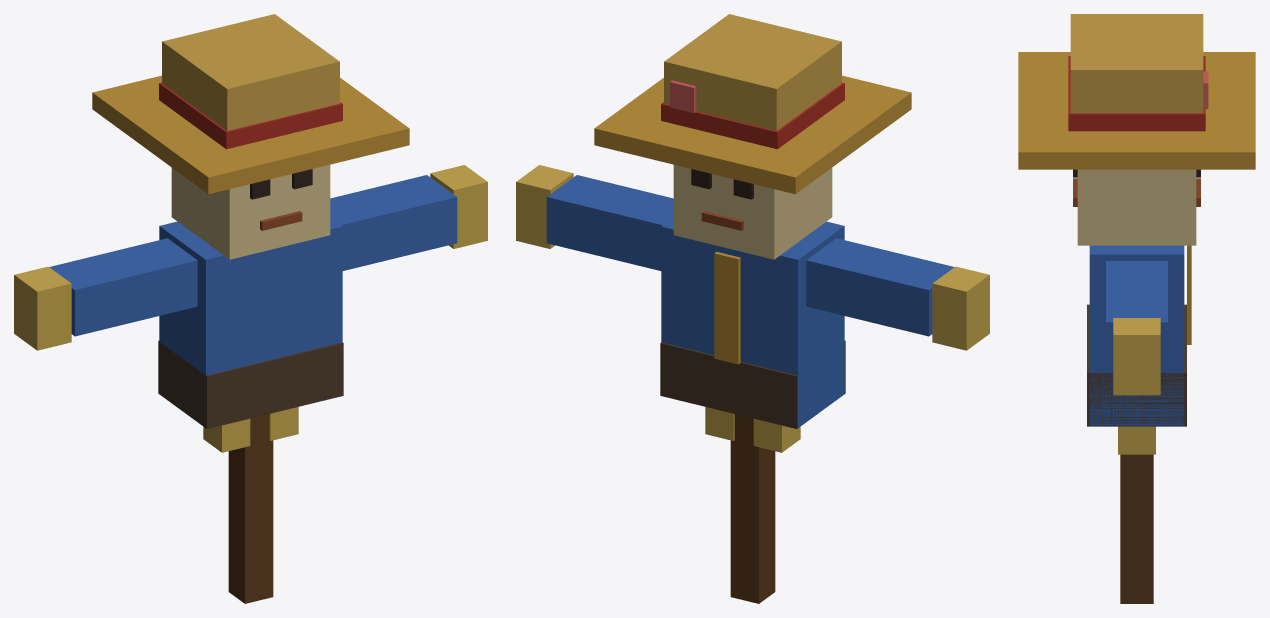
Rendered from nt-scarecrow.glb.
3 renders of one model, left to right at view 1: azimuth 30°, elevation 25°; view 2: azimuth 150°, elevation 25°; view 3: azimuth 270°, elevation 25°, orthographic. The views are drawn at different scales.
Visible parts, largest first — view 1: box-prop; view 2: box-prop; view 3: box-prop.
Part boxes in pixels (x1,y1,x2,y2): box-prop: [14, 14, 487, 603]; box-prop: [516, 14, 989, 603]; box-prop: [1018, 14, 1255, 603].
Size of the model in its own units: 2.24 by 2.58 by 1.
